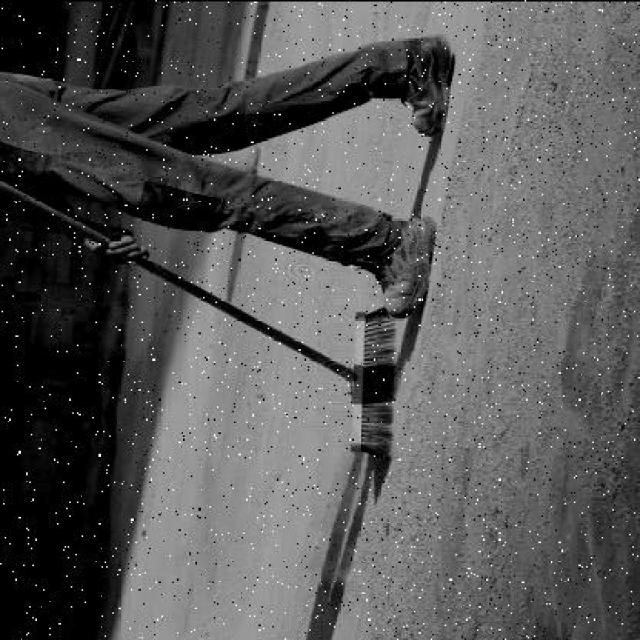shoes: (363, 212, 442, 313), (386, 37, 459, 134)
